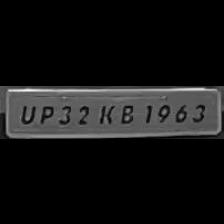1: (141, 100, 155, 122)
2: (72, 100, 92, 124)
3: (55, 100, 73, 124), (188, 100, 206, 122)
6: (172, 100, 188, 122)
9: (152, 100, 170, 122)
B: (116, 100, 136, 124)
K: (94, 100, 114, 124)
P: (36, 102, 54, 122)
U: (16, 101, 36, 123)
